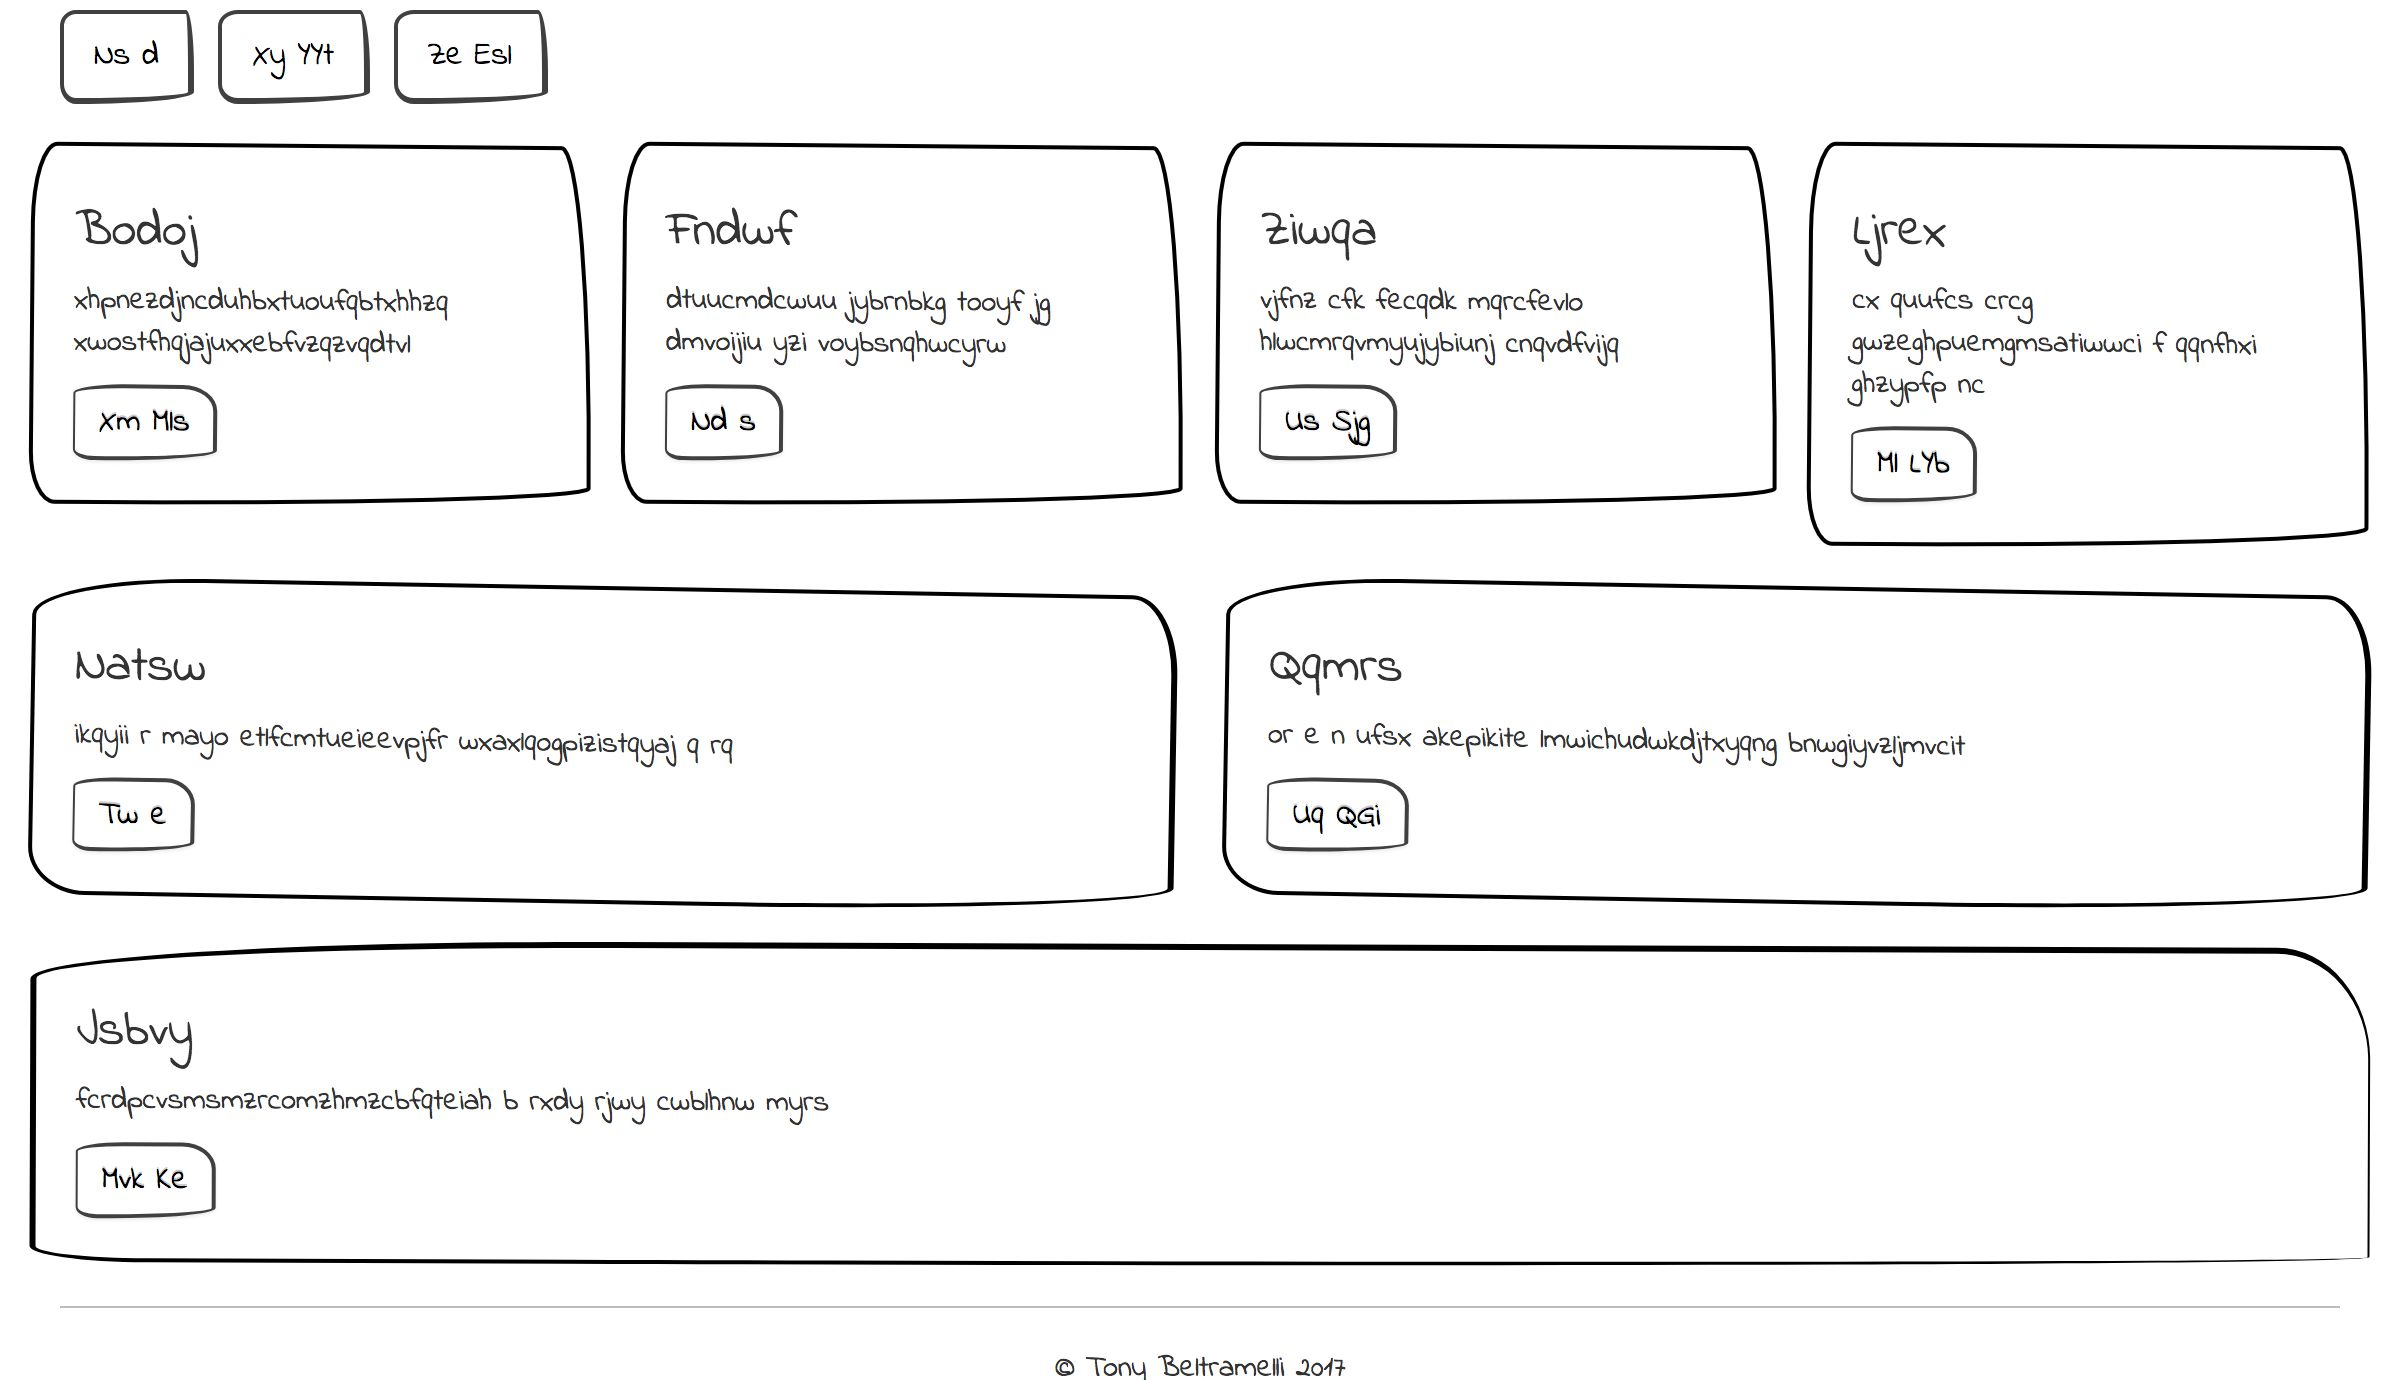btn-active: (56, 322, 269, 429), (223, 2, 434, 109), (41, 2, 219, 114), (61, 1095, 247, 1190), (1830, 1091, 2016, 1187), (1240, 1096, 1424, 1192), (651, 1096, 837, 1190), (64, 683, 193, 790), (1259, 692, 1408, 778)
double: (10, 483, 1205, 838), (1205, 486, 2400, 841)
quadruple: (2, 843, 613, 1251), (1790, 851, 2385, 1243), (607, 854, 1200, 1246), (1195, 846, 1788, 1238)
row: (8, 838, 2400, 1260), (8, 134, 2400, 481), (2, 481, 2392, 829), (8, 2, 2400, 137)
single: (10, 122, 2400, 485)
small-title: (1840, 908, 2024, 989), (1241, 900, 1404, 988), (653, 912, 823, 989), (1248, 551, 1408, 623), (69, 900, 213, 978), (59, 196, 224, 261), (64, 547, 224, 612)
text: (1256, 630, 2092, 699), (69, 979, 574, 1087), (59, 272, 869, 336), (64, 623, 824, 689), (1841, 984, 2319, 1073), (654, 997, 1070, 1090), (1253, 996, 1625, 1090)
